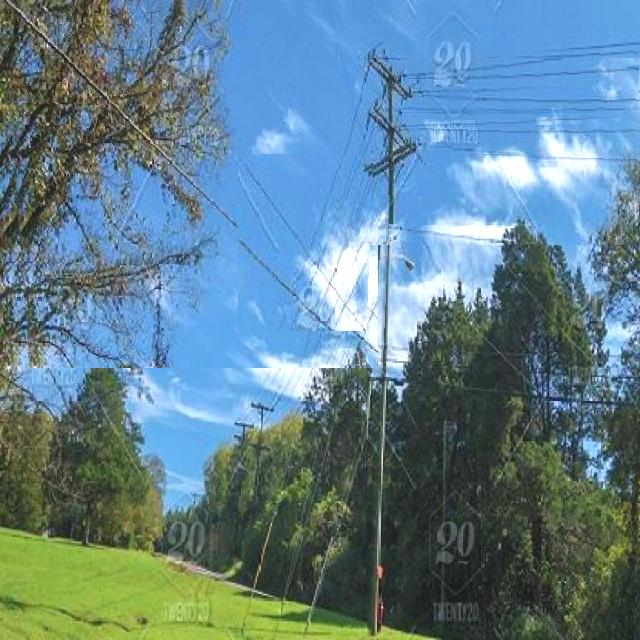crossarm: (368, 101, 422, 156), (366, 50, 417, 103), (364, 137, 417, 179)
pole: (367, 69, 396, 532)
wire: (3, 0, 378, 358), (319, 48, 639, 245), (238, 154, 368, 331), (389, 225, 592, 245), (400, 58, 582, 79), (401, 117, 639, 128), (413, 87, 606, 96), (418, 142, 545, 154), (402, 106, 640, 112)
